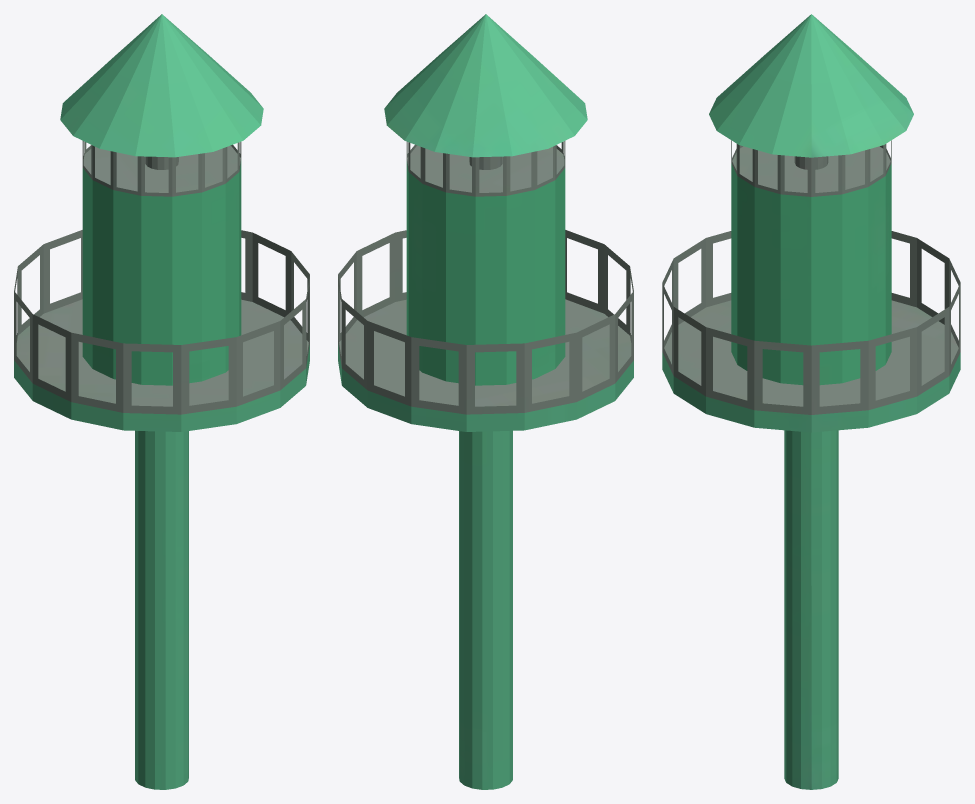
Rendered from buoy.glb.
3 views of the same model, side by side, from view 1: azimuth 30°, elevation 25°; view 2: azimuth 150°, elevation 25°; view 3: azimuth 270°, elevation 25° (orthographic).
Parts seen in each view (by area): view 1: Object_2; view 2: Object_2; view 3: Object_2.
Boxes of the visible parts, x1,y1,x2,y2 form: Object_2: [14, 14, 309, 789]; Object_2: [338, 14, 633, 789]; Object_2: [662, 14, 960, 789].
Size of the model in its own units: 0.5245 by 1.48 by 0.5245.
1 material, 1 textured.
